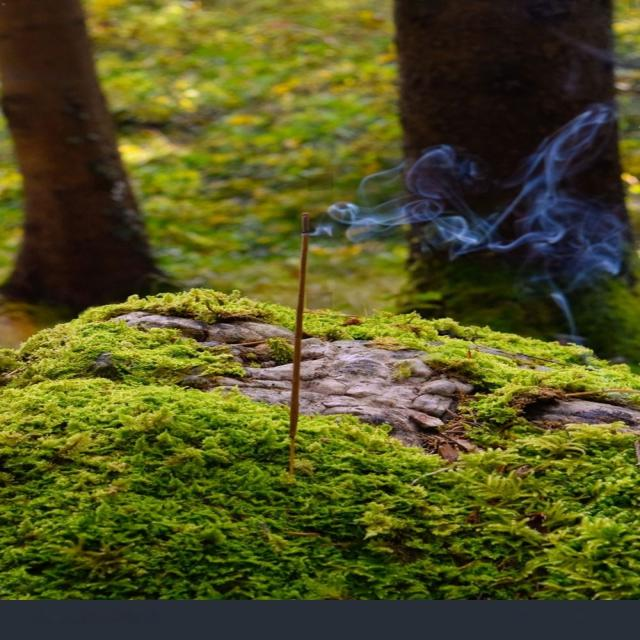Agarbatti: (267, 204, 350, 444)
